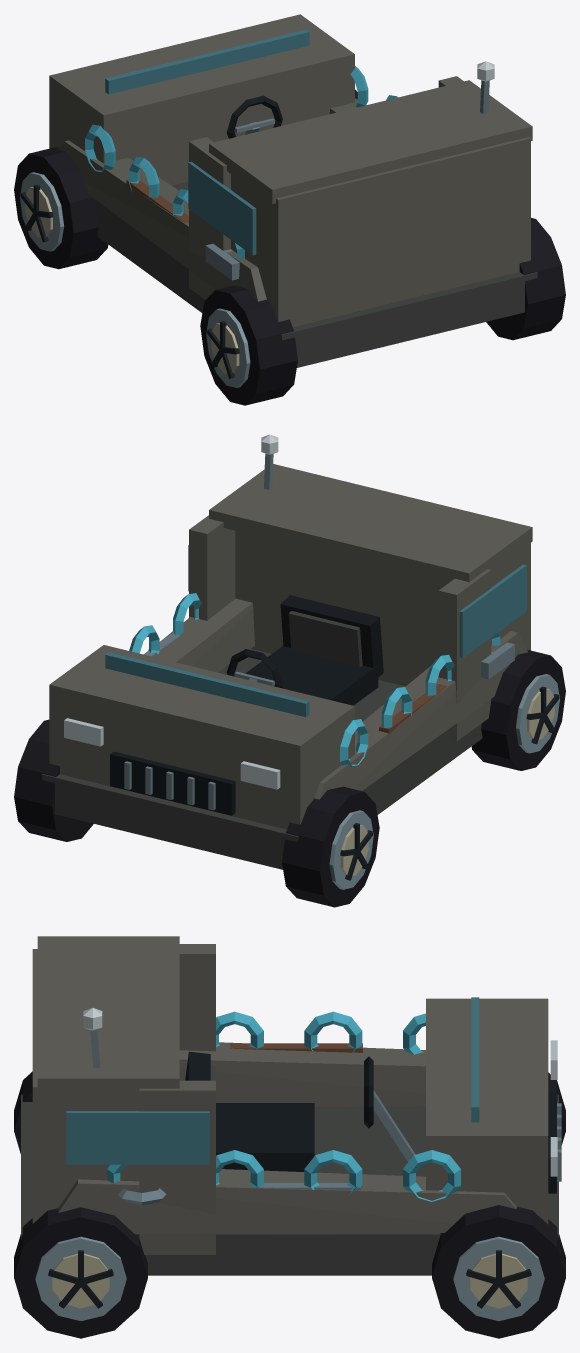
Rendered from kart.glb.
3 renders of one model, top to bottom at view 1: azimuth 30°, elevation 25°; view 2: azimuth 150°, elevation 25°; view 3: azimuth 270°, elevation 25°, orthographic. The views are drawn at different scales.
Parts seen in each view (by area): view 1: identity-van-van-utility-body, wheel-rear-left, wheel-front-left, wheel-rear-right, identity-van-motif-water, identity-van-motif-tools, identity-van-driver-cockpit, identity-van-motif-antenna; view 2: identity-van-van-utility-body, identity-van-driver-cockpit, wheel-front-left, wheel-rear-left, wheel-front-right, identity-van-motif-water, identity-van-motif-tools, identity-van-motif-antenna; view 3: identity-van-van-utility-body, wheel-front-right, wheel-rear-right, identity-van-driver-cockpit, identity-van-motif-water, identity-van-motif-tools, identity-van-motif-antenna, wheel-rear-left.
Part boxes in pixels (x1,y1,x2,y2): identity-van-van-utility-body: (49,14,537,367); wheel-rear-left: (200,285,297,405); wheel-front-left: (14,147,108,269); wheel-rear-right: (486,218,565,340); identity-van-motif-water: (85,66,398,258); identity-van-motif-tools: (126,179,239,280); identity-van-driver-cockpit: (226,95,282,138); identity-van-motif-antenna: (477,61,494,114); identity-van-van-utility-body: (42,464,532,869); identity-van-driver-cockpit: (226,595,383,705); wheel-front-left: (282,786,379,907); wheel-rear-left: (471,649,565,770); wheel-front-right: (14,719,93,841); identity-van-motif-water: (129,593,500,766); identity-van-motif-tools: (143,632,514,734); identity-van-motif-antenna: (261,434,278,489); identity-van-van-utility-body: (21,936,561,1275); wheel-front-right: (432,1205,565,1338); wheel-rear-right: (14,1207,147,1338); identity-van-driver-cockpit: (185,1051,415,1171); identity-van-motif-water: (107,1011,460,1202); identity-van-motif-tools: (118,1043,362,1205); identity-van-motif-antenna: (83,1008,102,1067); wheel-rear-left: (14,1071,32,1153).
Size of the model in its own units: 2.13 by 1.72 by 2.8.
